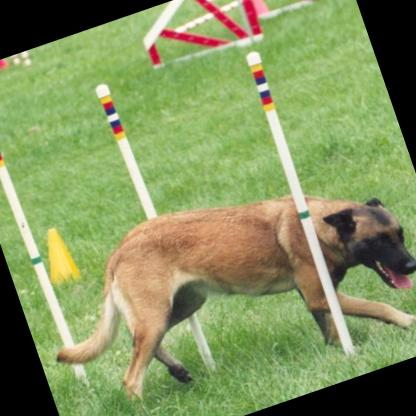malinois: (21, 140, 416, 416)
